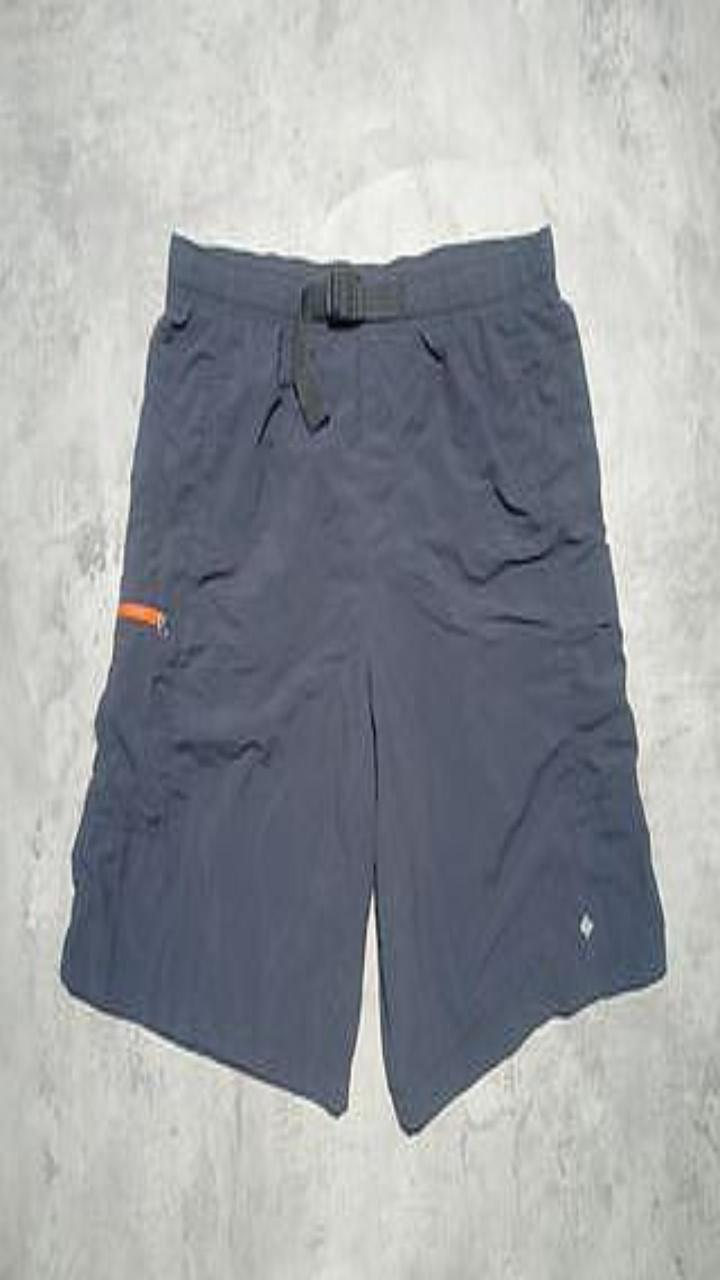Shorts: (61, 226, 665, 1132)
